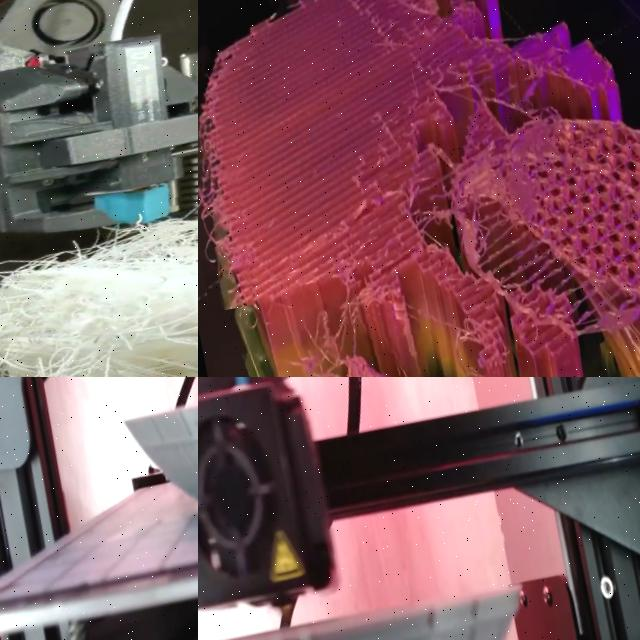spaghetti: (294, 7, 595, 320), (0, 131, 198, 377), (198, 51, 267, 313), (272, 297, 443, 377), (452, 313, 507, 377)
